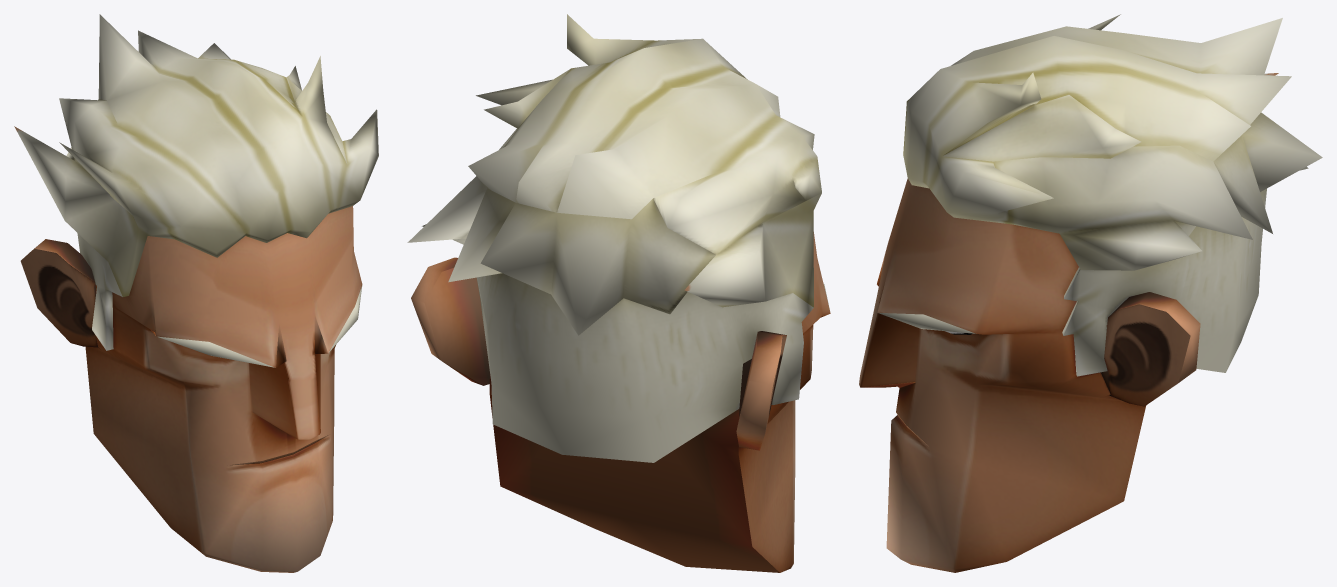
File: IT_PLY_ST_0015_JohnDoe_15.FBX
3 renders of one model, left to right at view 1: azimuth 30°, elevation 25°; view 2: azimuth 150°, elevation 25°; view 3: azimuth 270°, elevation 25°, orthographic. The views are drawn at different scales.
Visible parts, largest first — view 1: IT_PLY_ST_0015_JohnDoe_15; view 2: IT_PLY_ST_0015_JohnDoe_15; view 3: IT_PLY_ST_0015_JohnDoe_15.
Part boxes in pixels (x1=…): IT_PLY_ST_0015_JohnDoe_15: x1=14, y1=14, x2=378, y2=572; IT_PLY_ST_0015_JohnDoe_15: x1=407, y1=14, x2=830, y2=572; IT_PLY_ST_0015_JohnDoe_15: x1=859, y1=14, x2=1322, y2=572.
Size of the model in its own units: 23.51 by 34.04 by 27.
